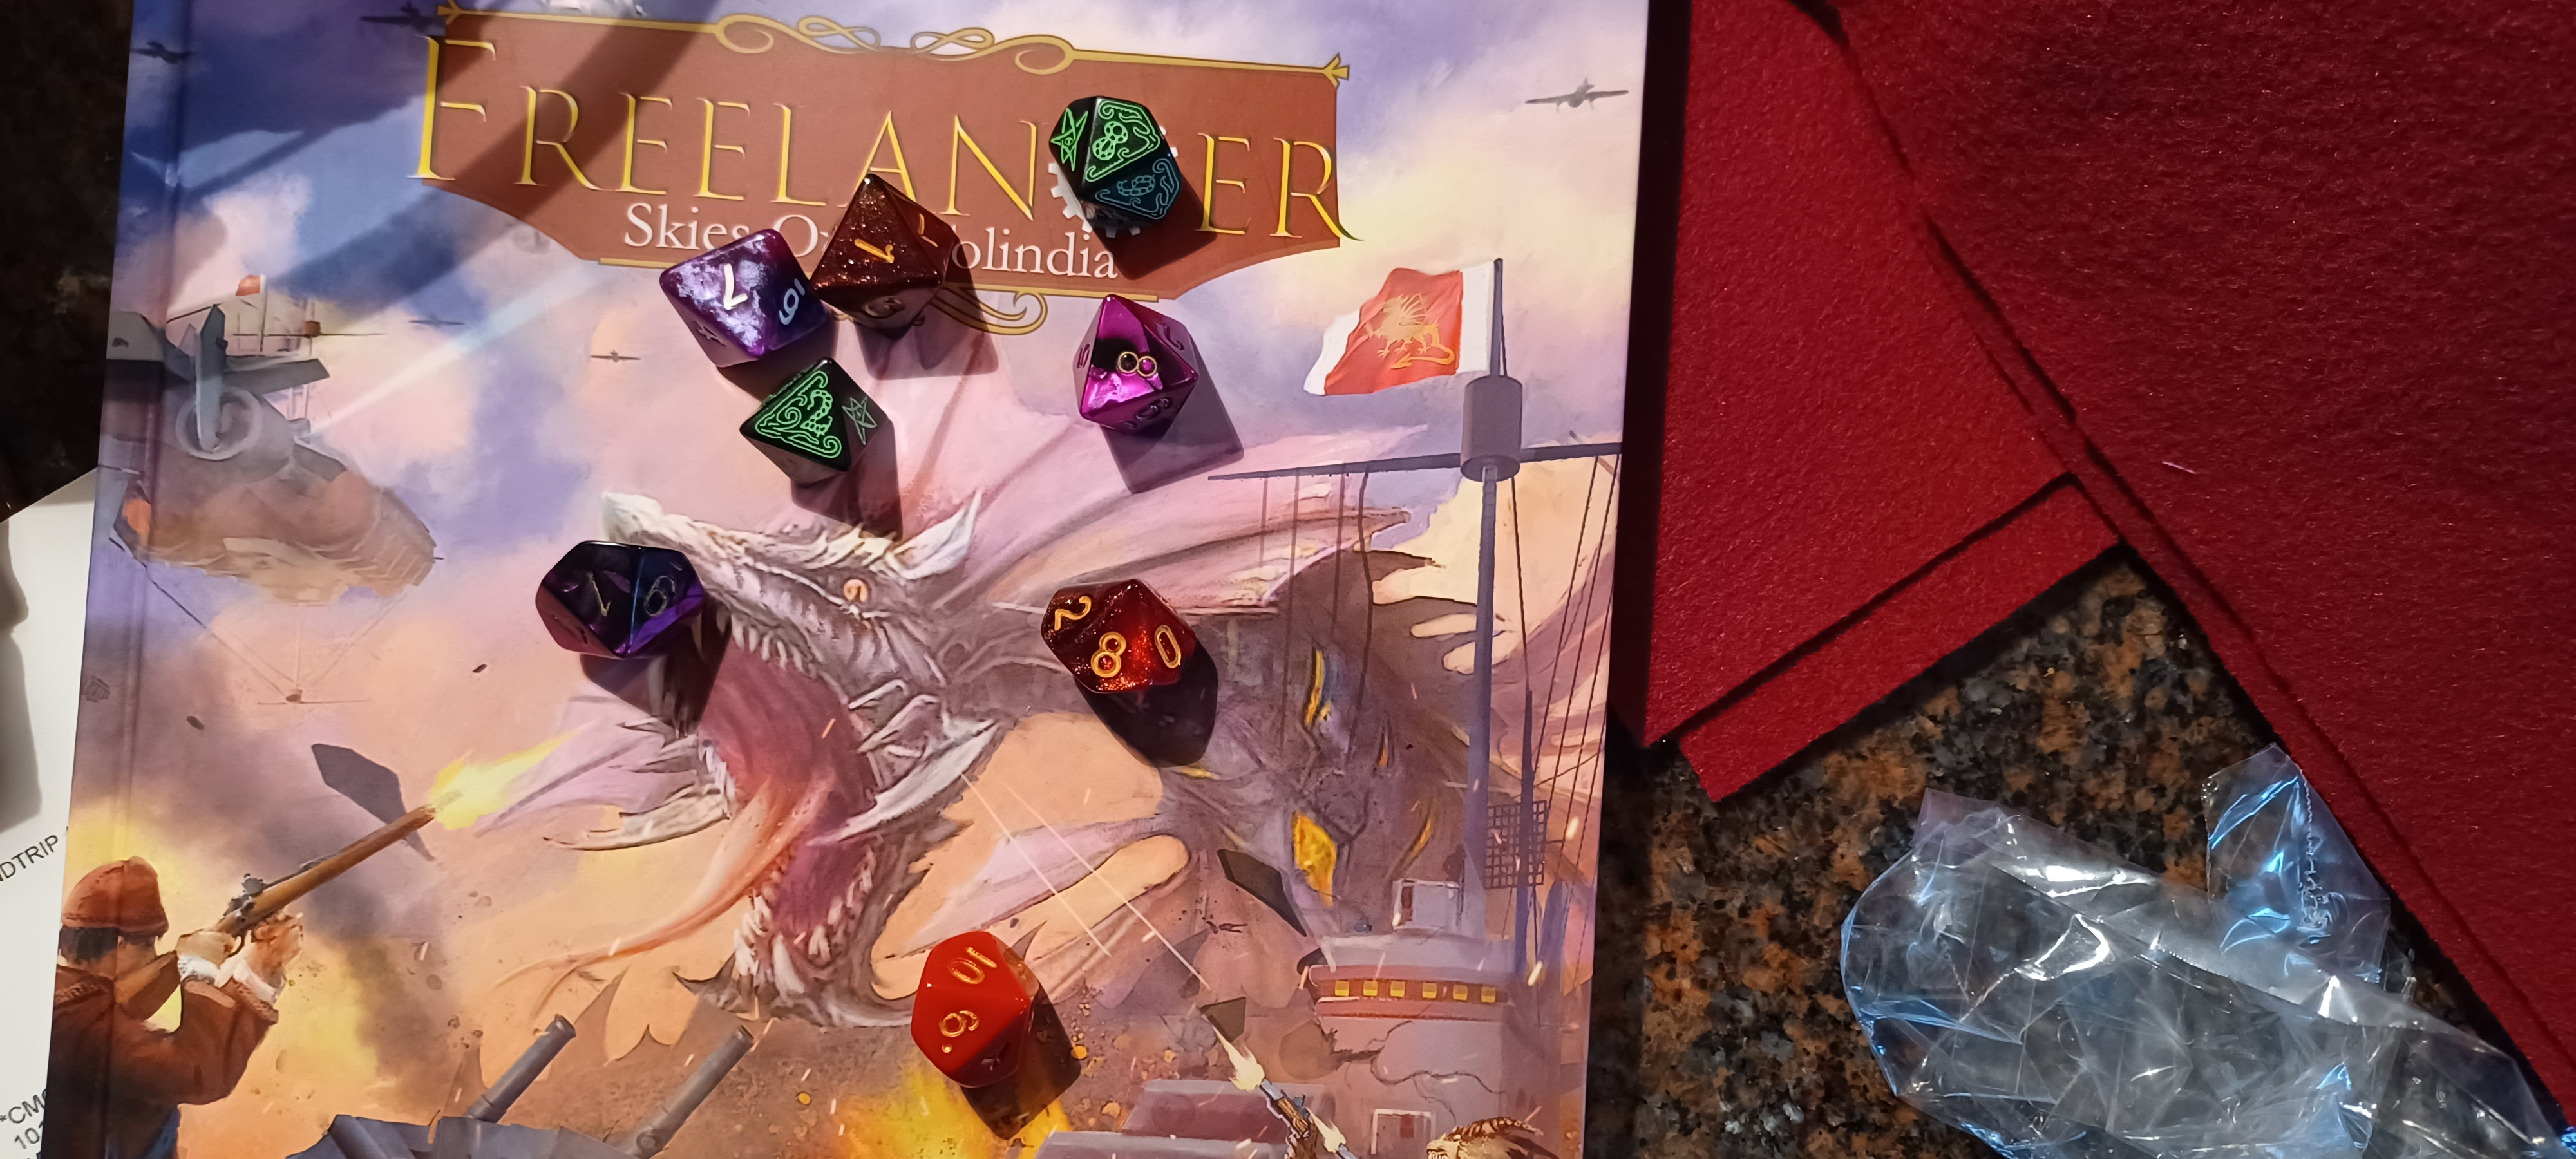eight: (1022, 552, 1221, 734), (1022, 62, 1207, 245), (1037, 276, 1230, 448)
one: (513, 511, 734, 685), (792, 154, 982, 346)
seven: (637, 210, 839, 387)
six: (882, 898, 1089, 1110)
two: (729, 340, 913, 496)
